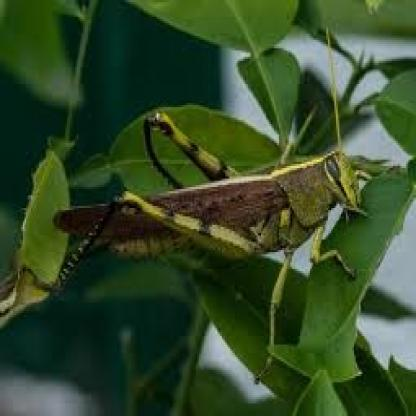grasshopper: (41, 79, 375, 372)
